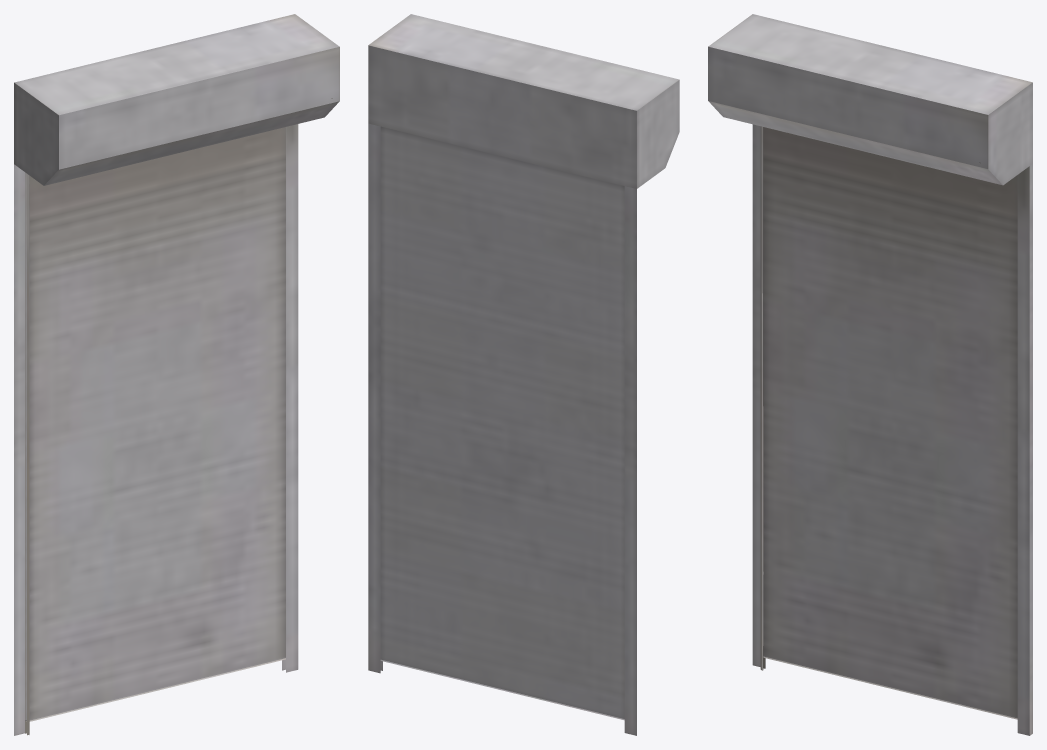
File: shutter_lo.glb
The picture shows the model from 3 angles, left to right: view 1: azimuth 30°, elevation 25°; view 2: azimuth 150°, elevation 25°; view 3: azimuth 330°, elevation 25°; orthographic projection. The views are drawn at different scales.
Visible parts, largest first — view 1: merged; view 2: merged; view 3: merged.
Boxes of the visible parts, x1,y1,x2,y2 form: merged: (14, 14, 339, 735); merged: (368, 14, 679, 735); merged: (708, 14, 1032, 735).
Size of the model in its own units: 1.08 by 2.4 by 0.3001.
1 material, 1 textured.
